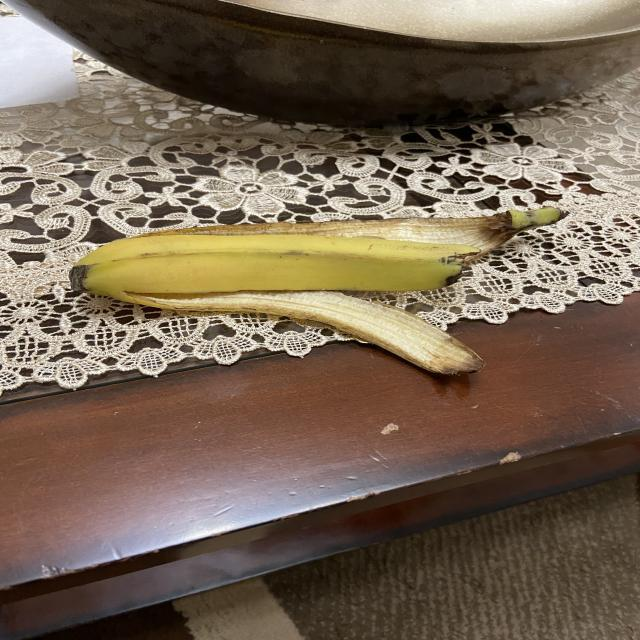banana-peel: (68, 204, 563, 300), (120, 289, 485, 377)
